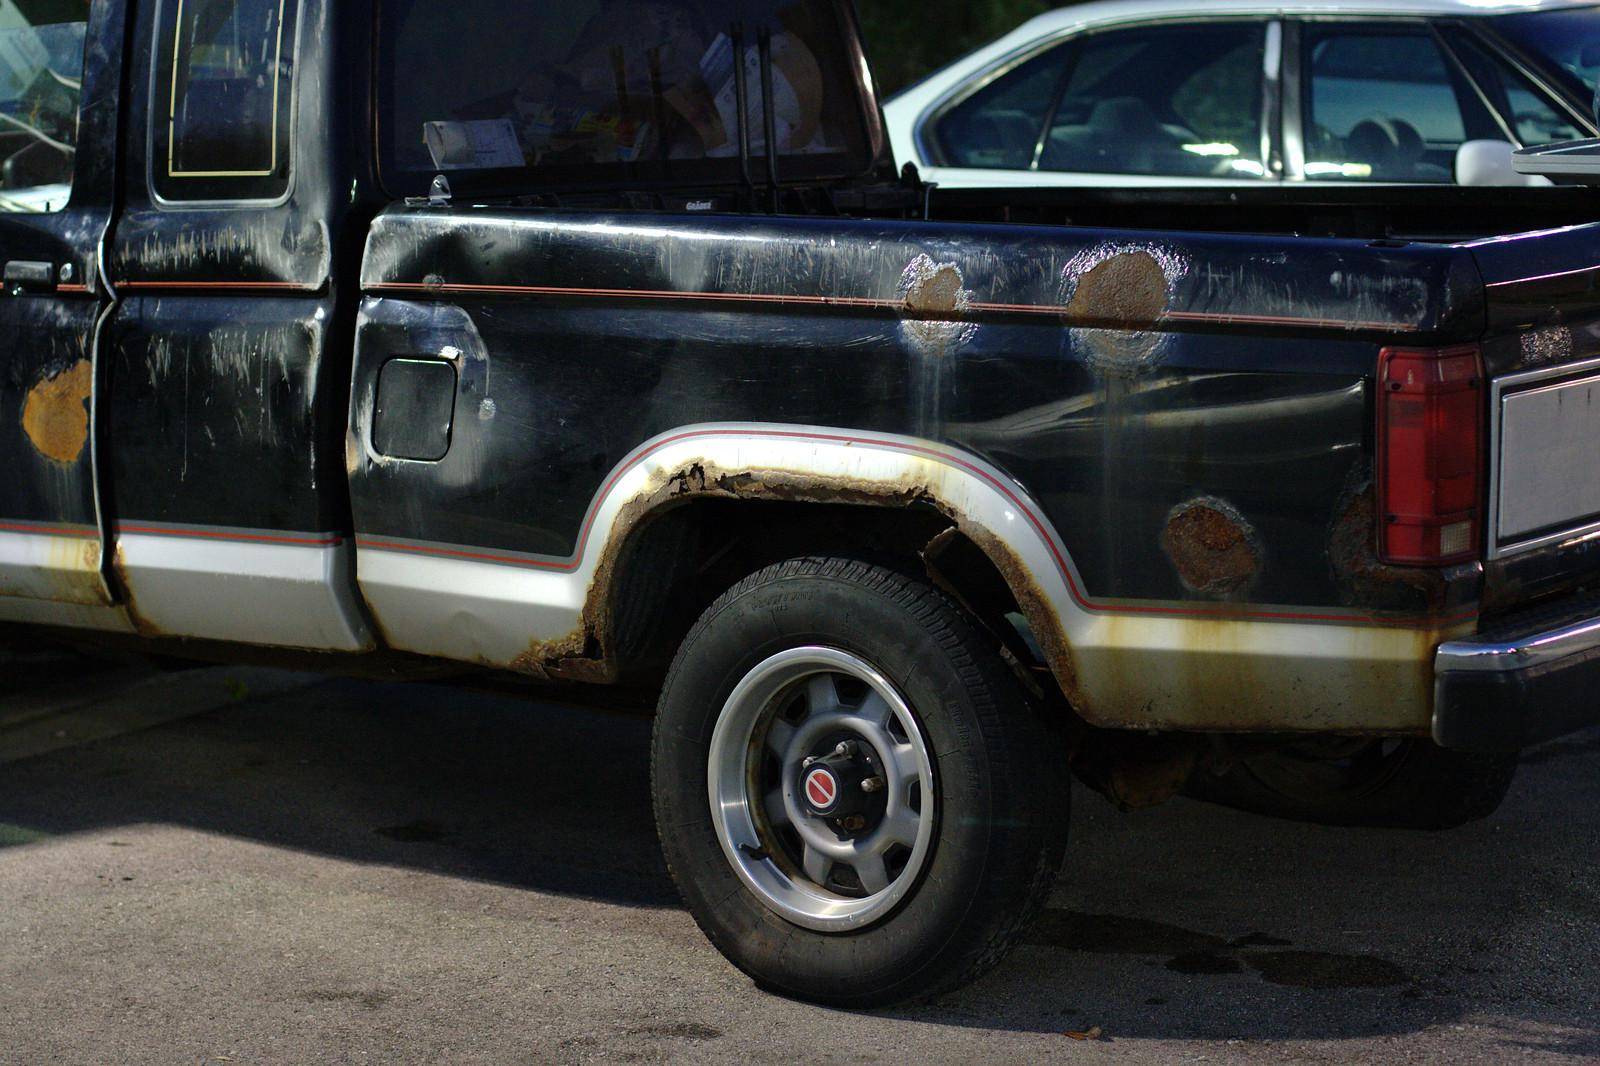doorouter-dent: (111, 240, 355, 597), (0, 210, 105, 582)
quaterpanel-dent: (403, 220, 1319, 537)
